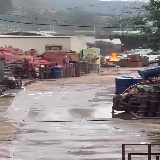fire: (109, 53, 120, 61)
